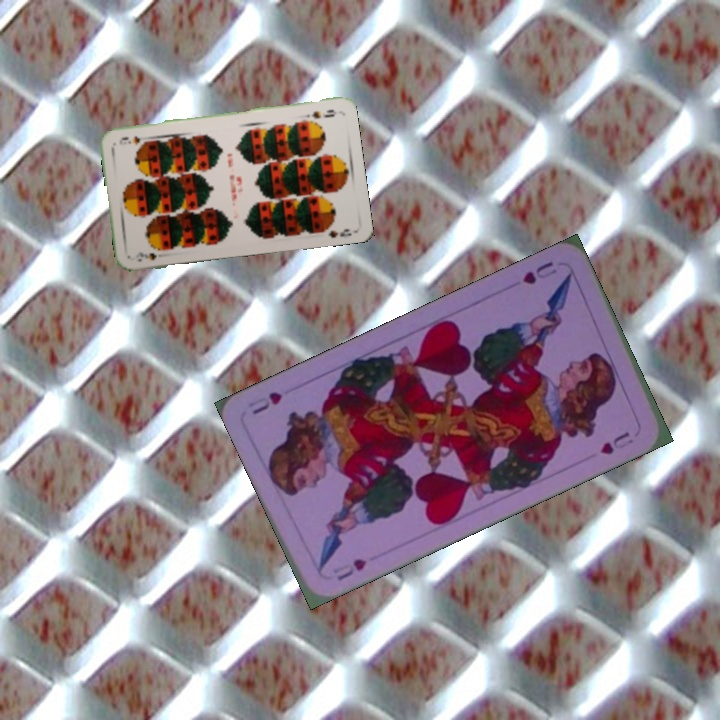HU: (518, 257, 560, 287), (329, 554, 369, 584)
S9: (307, 106, 339, 121), (132, 248, 159, 264)
